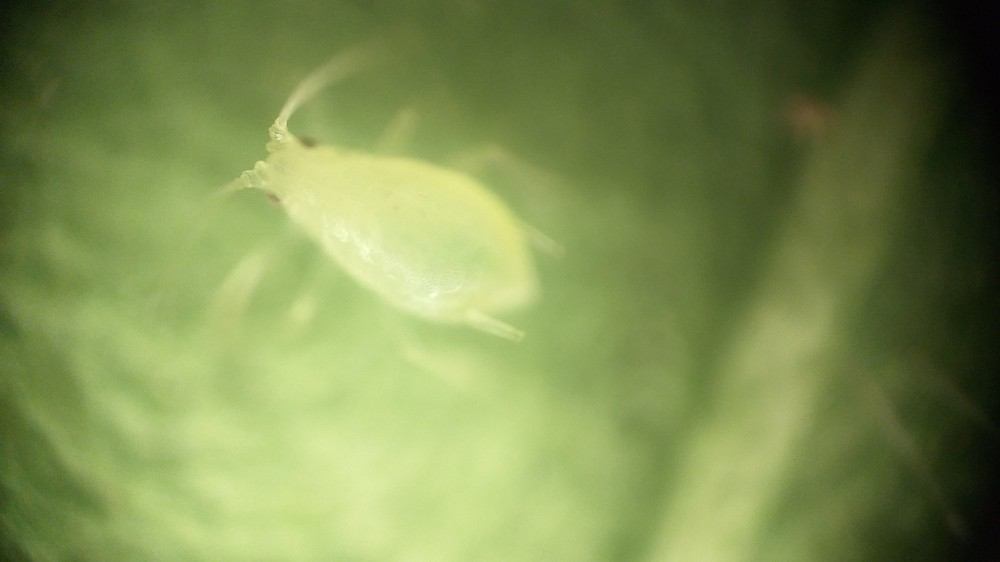Pulgon: (165, 49, 626, 411)
